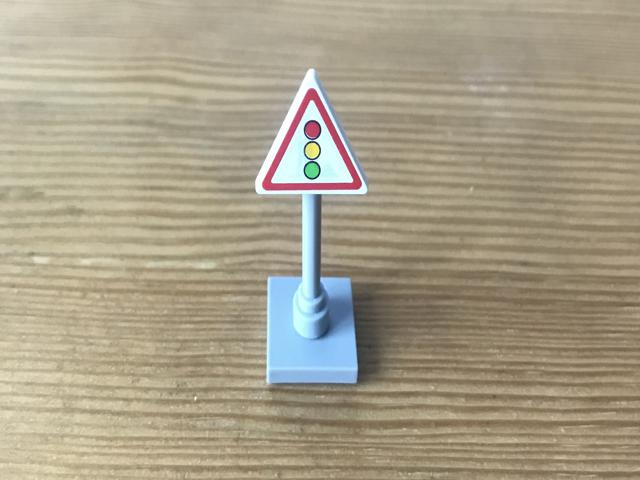lichtzeichenanlage: (254, 72, 370, 195)
